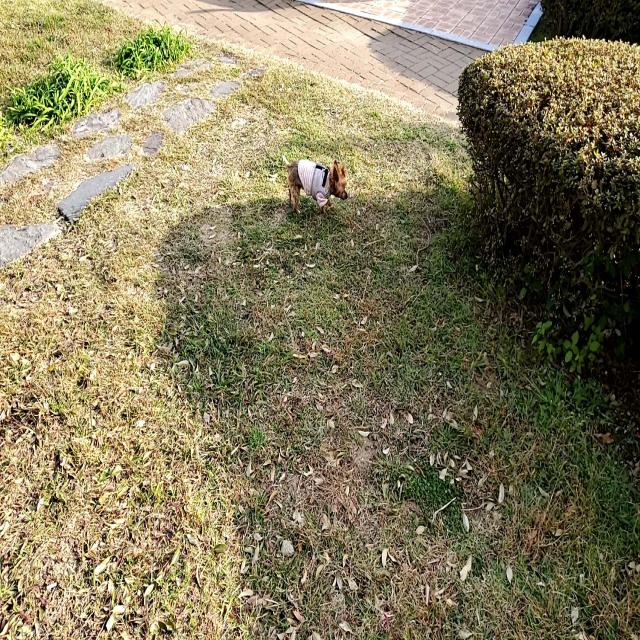Dog: (282, 155, 348, 219)
